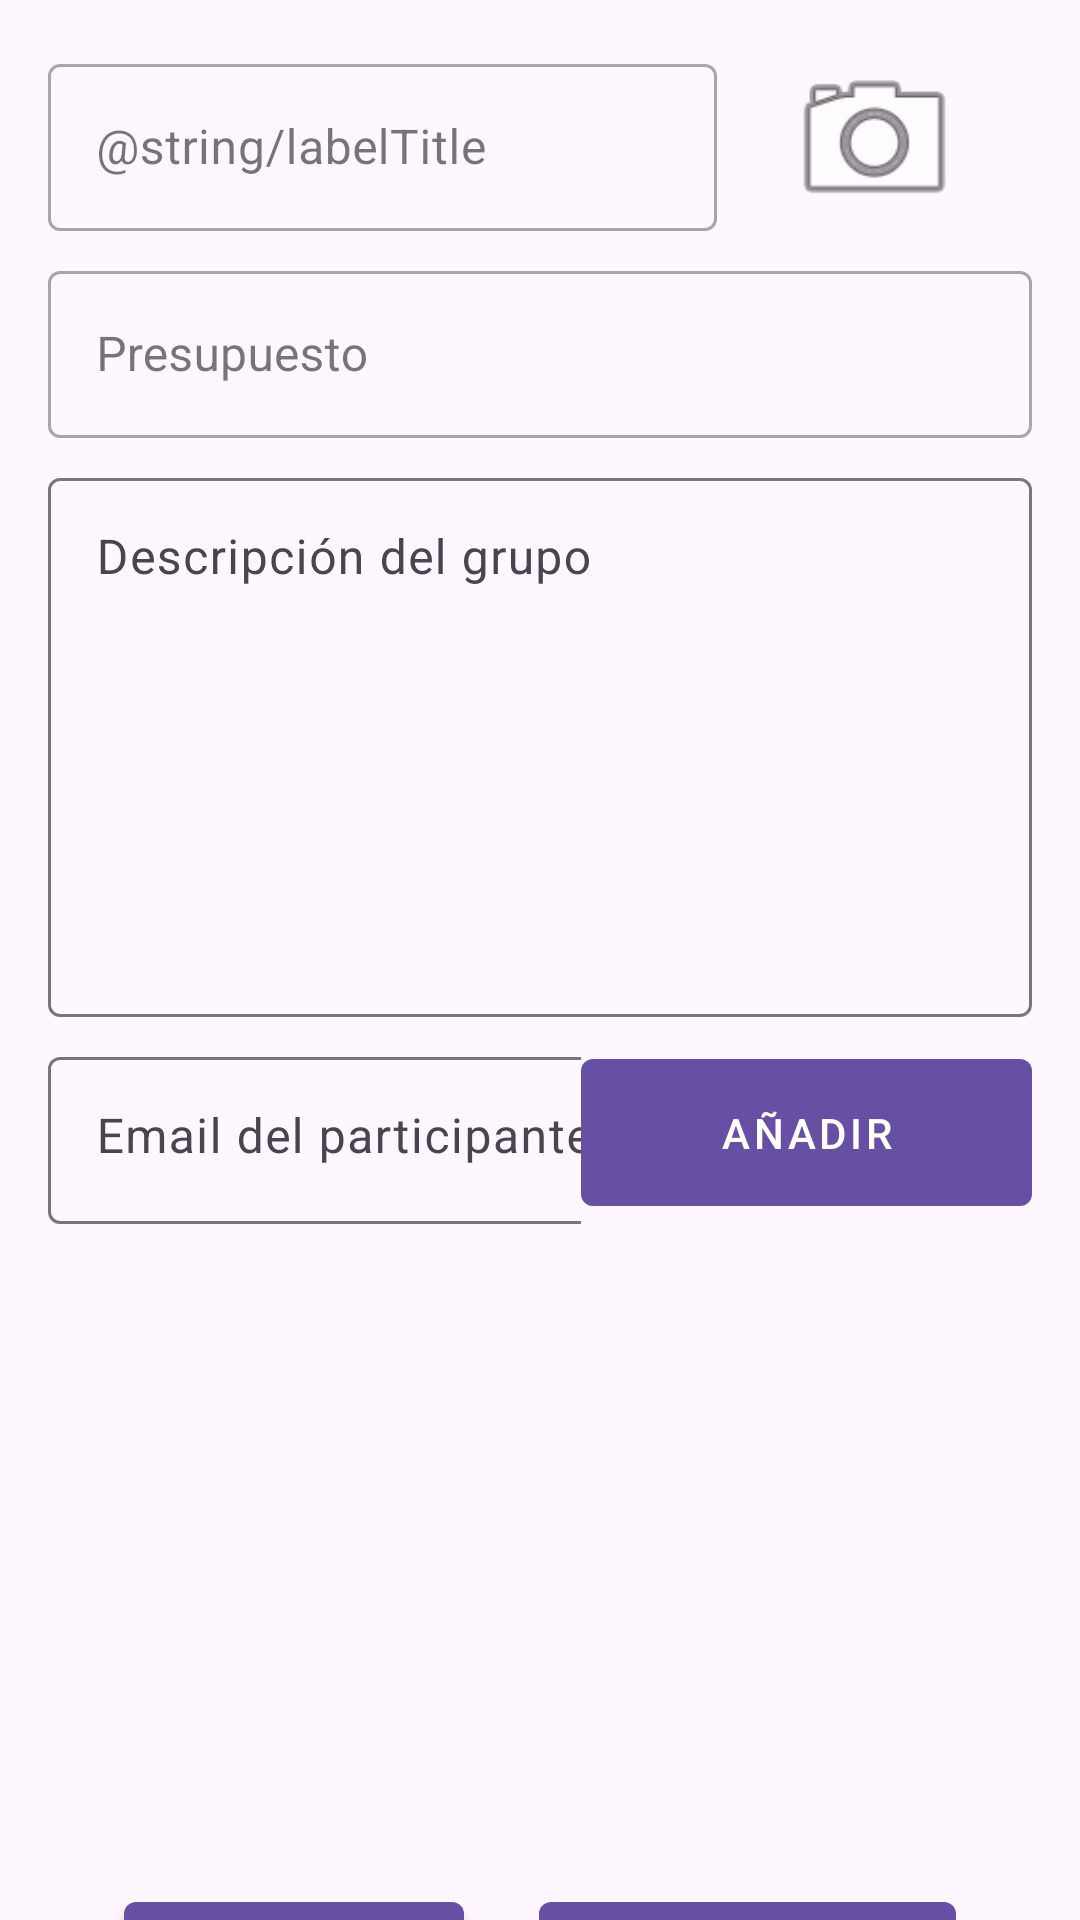

Icons on this 1080w x 1920h Android screen, each with the point to tap as point (x, y):
camera: point (874, 136)
